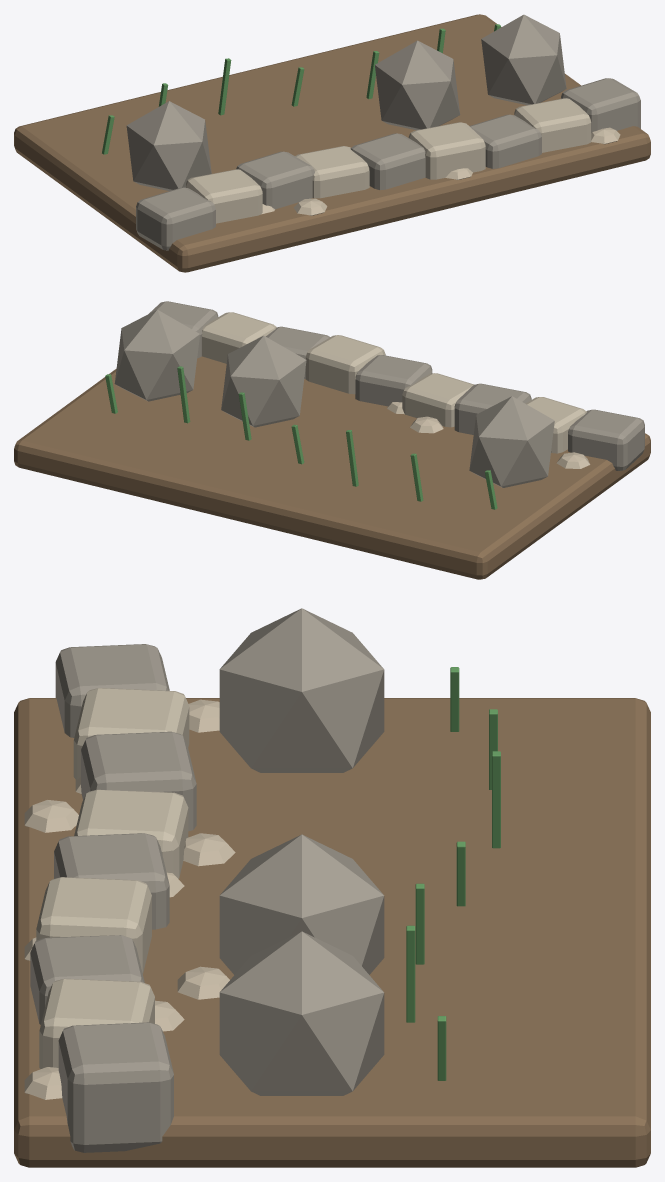
Rendered from riverbank.glb.
3 renders of one model, top to bottom at view 1: azimuth 30°, elevation 25°; view 2: azimuth 150°, elevation 25°; view 3: azimuth 270°, elevation 25°, orthographic. The views are drawn at different scales.
Visible parts, largest first — view 1: RiverbankSection_Geometry; view 2: RiverbankSection_Geometry; view 3: RiverbankSection_Geometry.
Part boxes in pixels (x1=…): RiverbankSection_Geometry: x1=14, y1=14, x2=650, y2=272; RiverbankSection_Geometry: x1=14, y1=301, x2=650, y2=579; RiverbankSection_Geometry: x1=14, y1=608, x2=650, y2=1167.
Size of the model in its own units: 4.11 by 0.84 by 2.5.
